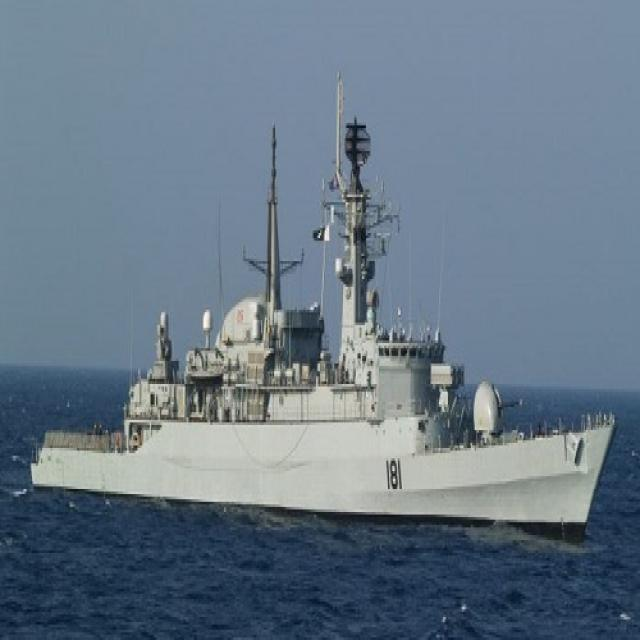Corvette-Babur-Class-PAK: (21, 62, 616, 532)
